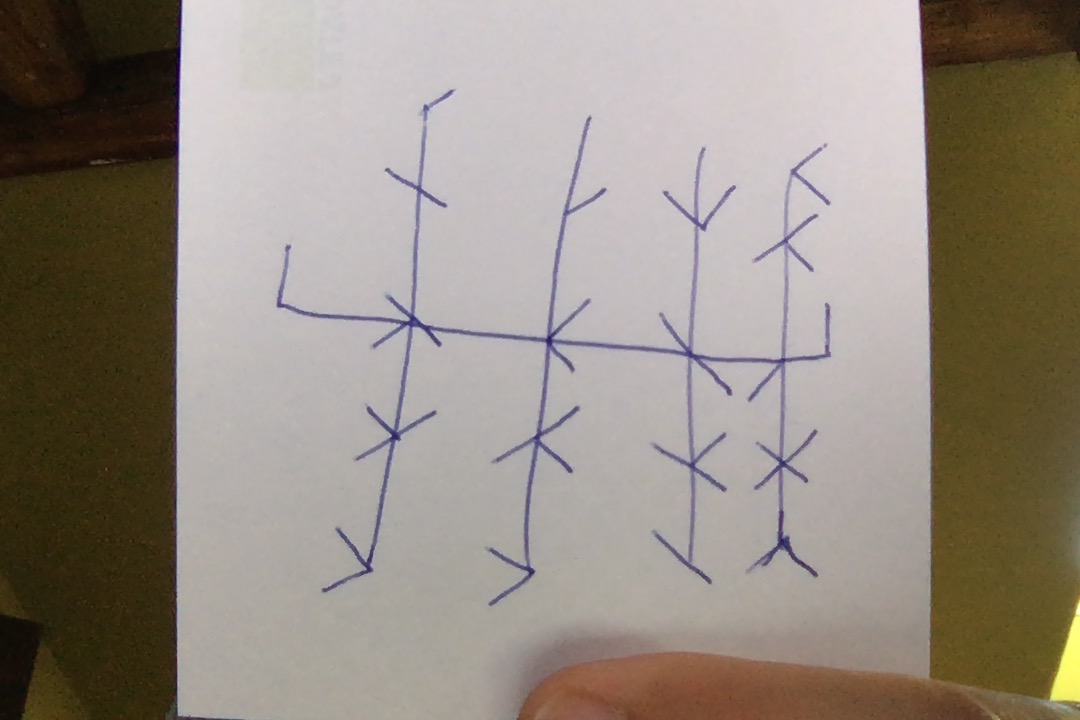Bar: (322, 89, 456, 592), (484, 116, 608, 606), (649, 145, 737, 584), (746, 144, 831, 577)
Barcode: (276, 88, 831, 606)
End: (788, 302, 832, 362)
Start: (276, 243, 385, 322)
